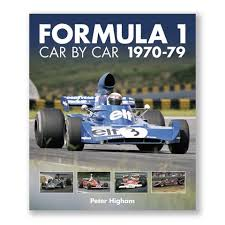FormulaOneCar: (32, 71, 195, 159)
